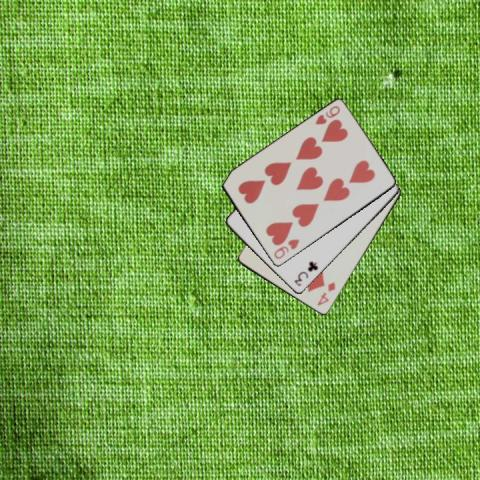3c: (292, 259, 320, 288)
4d: (314, 280, 337, 308)
9h: (270, 236, 300, 261), (312, 103, 341, 126)
